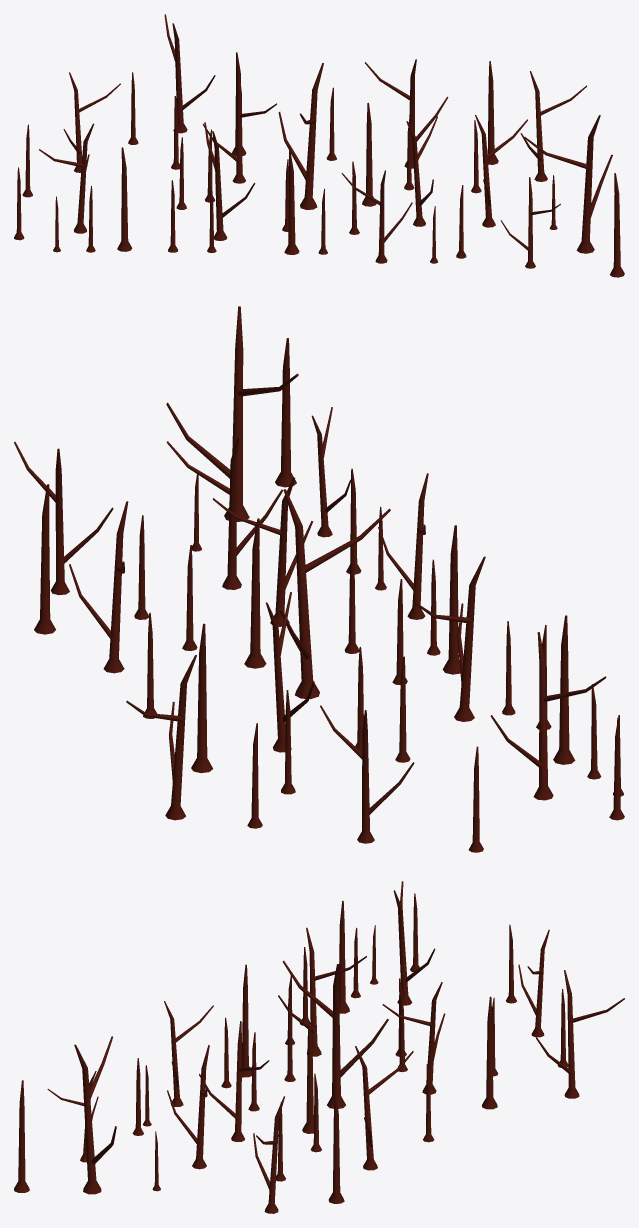
File: trunks.obj
The picture shows the model from 3 angles, top to bottom: view 1: azimuth 30°, elevation 25°; view 2: azimuth 150°, elevation 25°; view 3: azimuth 270°, elevation 25°; orthographic projection. The views are drawn at different scales.
Parts seen in each view (by area): view 1: Cylinder046; view 2: Cylinder046; view 3: Cylinder046.
Part boxes in pixels (x1,y1,x2,y2): Cylinder046: [14, 14, 624, 277]; Cylinder046: [14, 306, 624, 852]; Cylinder046: [14, 881, 624, 1213].
Size of the model in its own units: 771 by 205 by 764.
